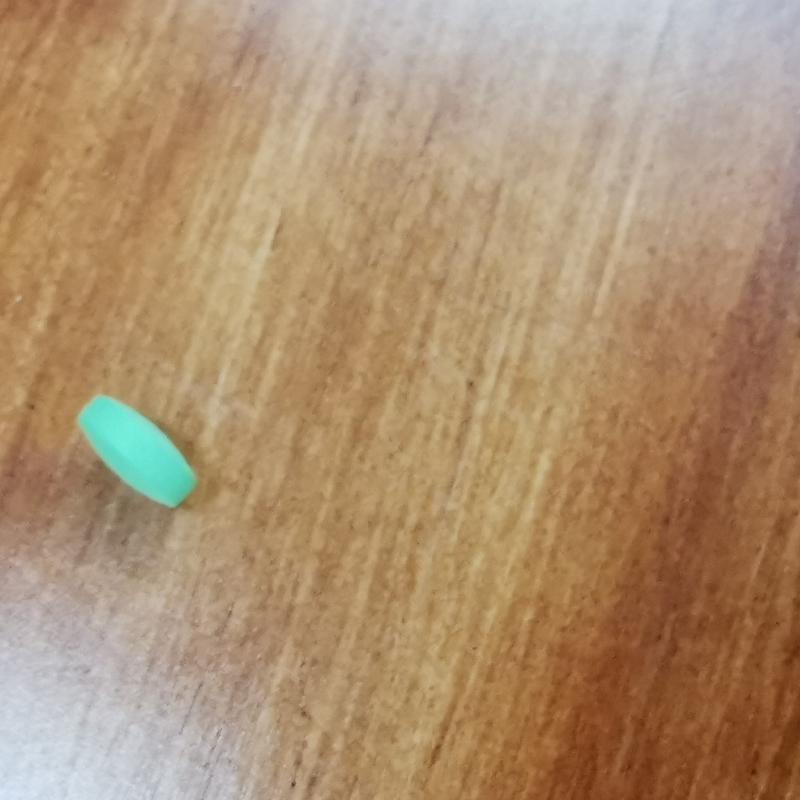pills: (56, 375, 213, 529)
